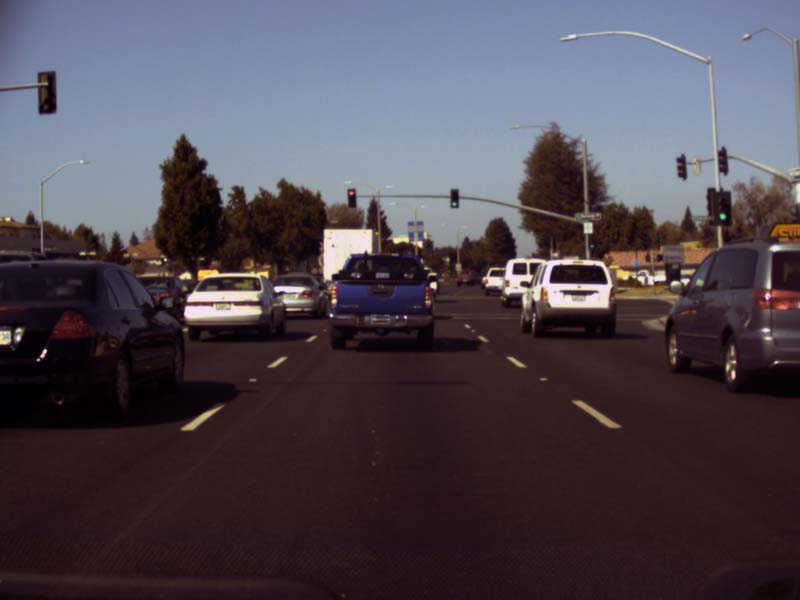Green: (717, 192, 730, 224), (589, 237, 595, 250)
Red: (347, 188, 356, 208), (450, 193, 458, 208)
